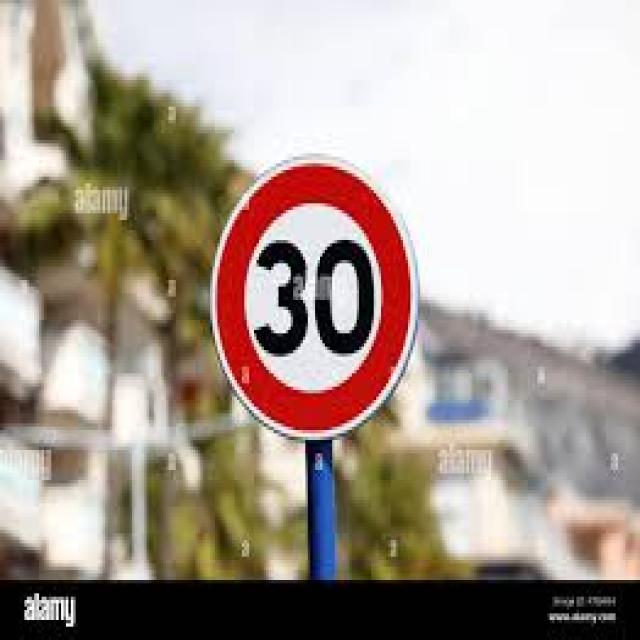speed_30: (213, 157, 419, 445)
